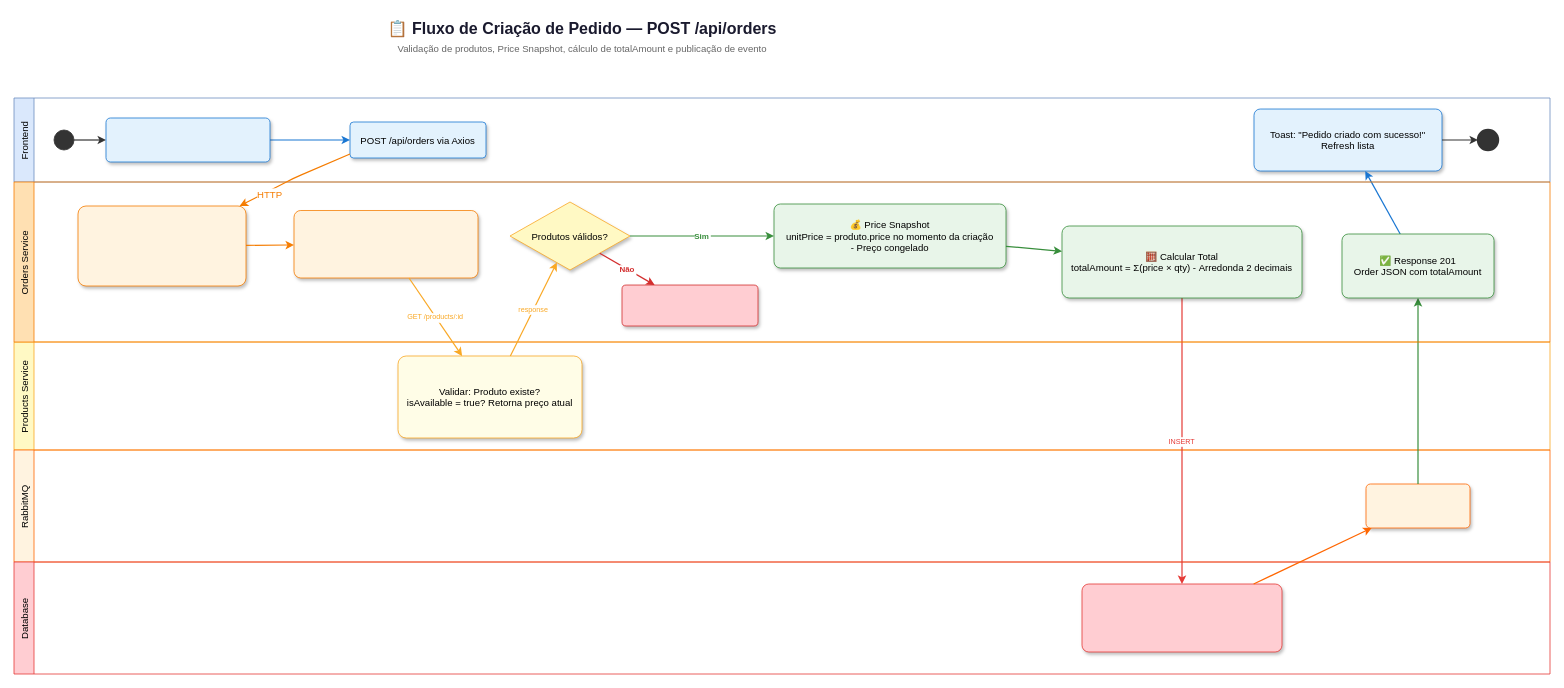
Some shapes in this 1564 by 688 pixel diagram are drawn without their labels. The shapes that lost their labels are listed below. From the top down, each one's centre as x and y in pixels, then its label:
point 188,141: Usuário preenche nome, telefone, endereço + items
point 162,247: Zod Validation customerName, customerPhone, deliveryAddress, items[]
point 386,245: HTTP Client getProductsByIds & Token forwarding
point 690,306: UNAVAILABLE_PRODUCT
point 1418,507: 📤 Publish Event order.created
point 1182,619: 💾 Prisma Create orders + order_items -> status: 'pending'
